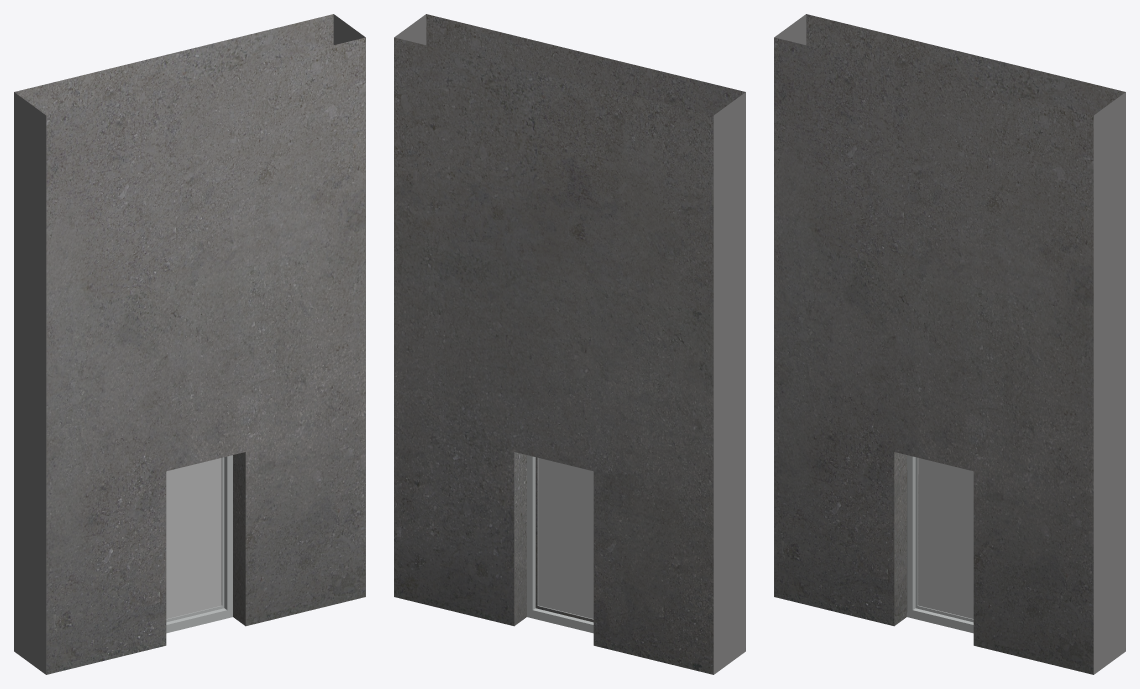
File: ModuloPeatonal (1).fbx
3 renders of one model, left to right at view 1: azimuth 30°, elevation 25°; view 2: azimuth 150°, elevation 25°; view 3: azimuth 330°, elevation 25°, orthographic.
Visible parts, largest first — view 1: MODULO_PUERTA_PEATONAL.002, PUERTA_PEATONAL .002; view 2: MODULO_PUERTA_PEATONAL.002, PUERTA_PEATONAL .002; view 3: MODULO_PUERTA_PEATONAL.002, PUERTA_PEATONAL .002.
Part boxes in pixels (x1=…): MODULO_PUERTA_PEATONAL.002: x1=14, y1=14, x2=365, y2=674; PUERTA_PEATONAL .002: x1=166, y1=455, x2=232, y2=633; MODULO_PUERTA_PEATONAL.002: x1=394, y1=14, x2=745, y2=674; PUERTA_PEATONAL .002: x1=527, y1=455, x2=593, y2=633; MODULO_PUERTA_PEATONAL.002: x1=774, y1=14, x2=1125, y2=674; PUERTA_PEATONAL .002: x1=907, y1=455, x2=973, y2=633.
Size of the model in its own units: 403 by 674 by 70.
